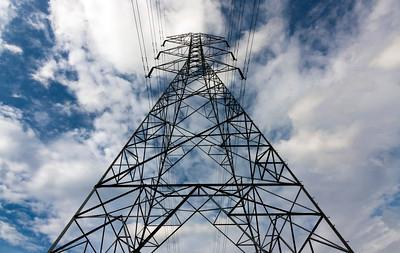power_tower: (39, 27, 364, 253)
